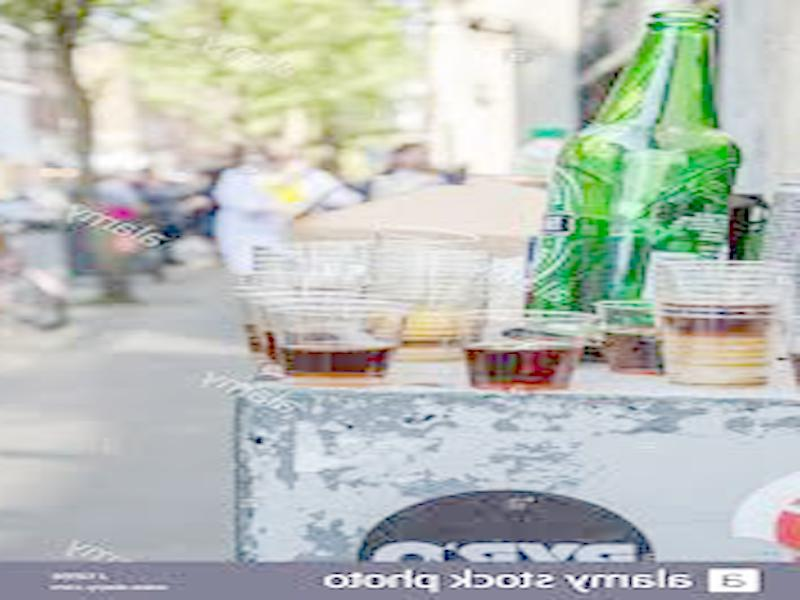Beer: (519, 11, 745, 354)
